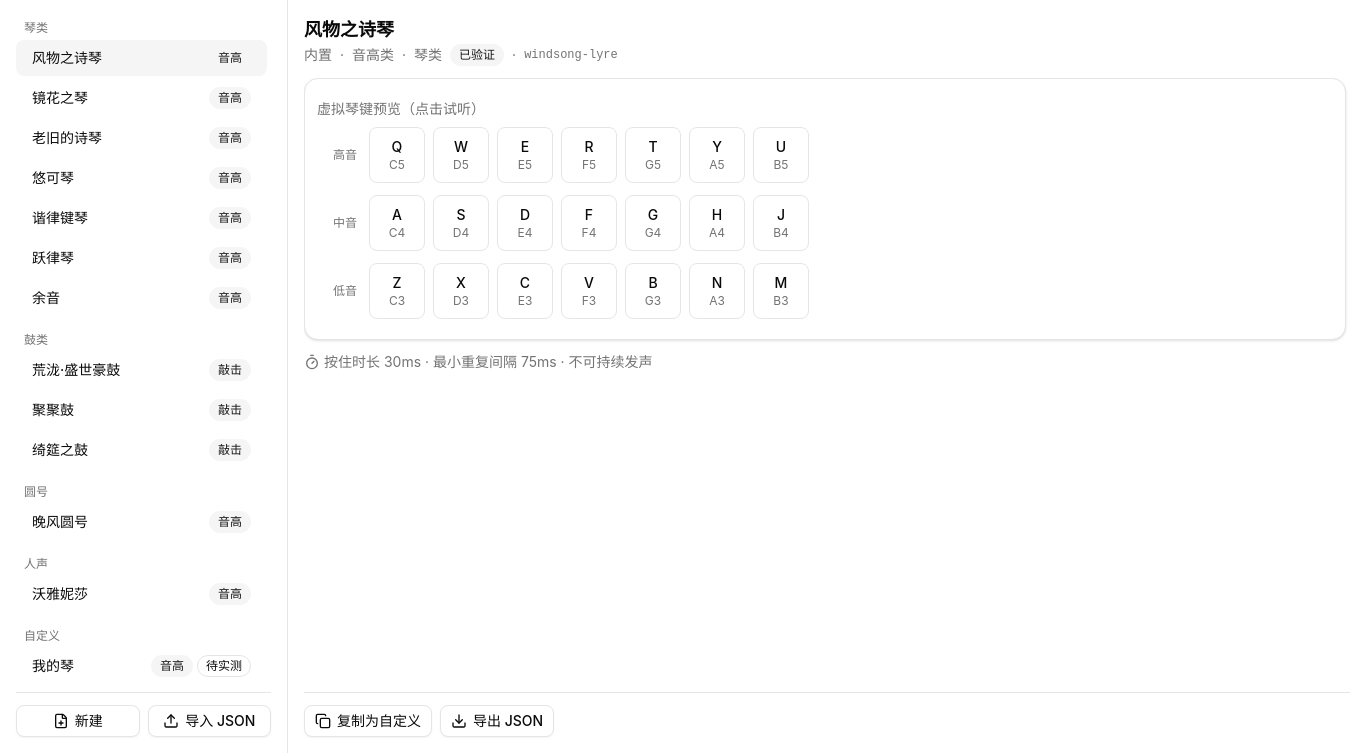
Test case: InstrumentsPage 列表与详情 › 有未保存修改时切换乐器先确认
The image size is (1366, 756).
Step 1. Click the text "我的琴" → click(53, 666), box [32, 656, 74, 676]
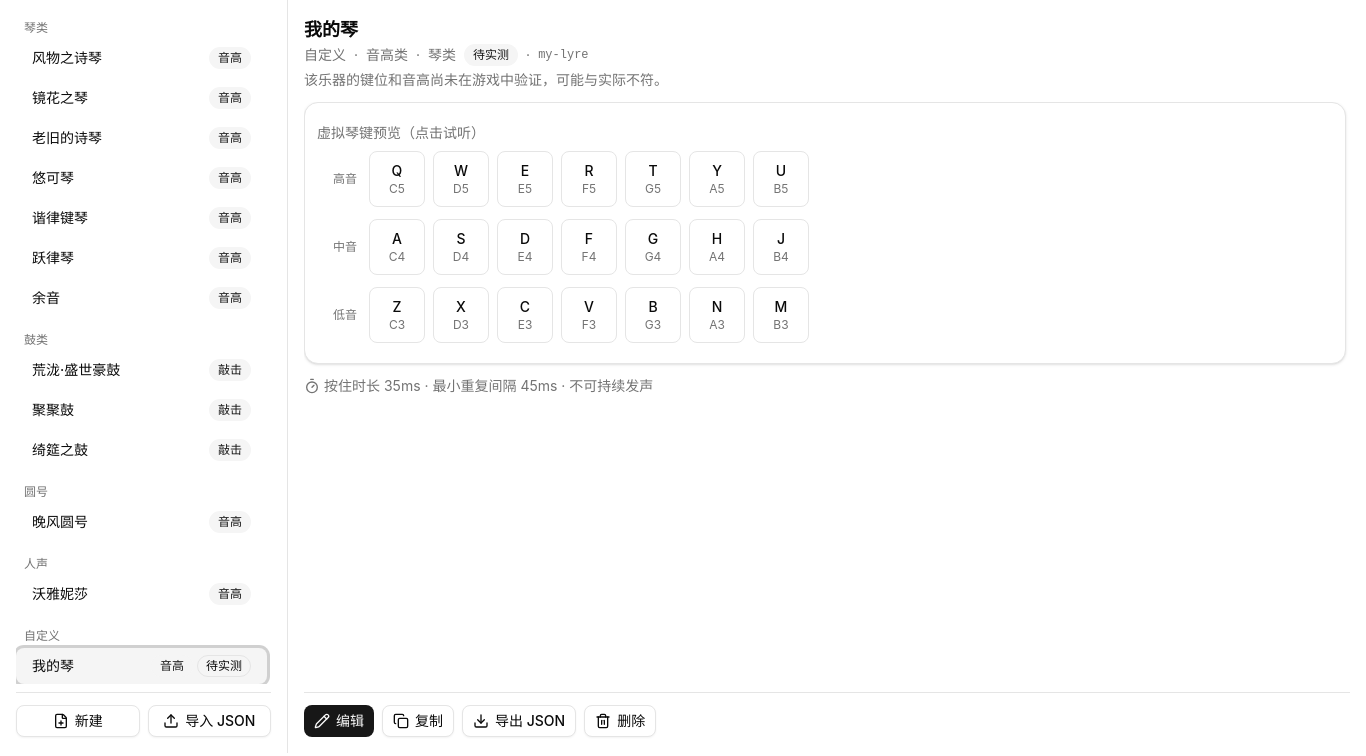
Step 2. Click the button "编辑" → click(339, 721), box [304, 705, 374, 737]
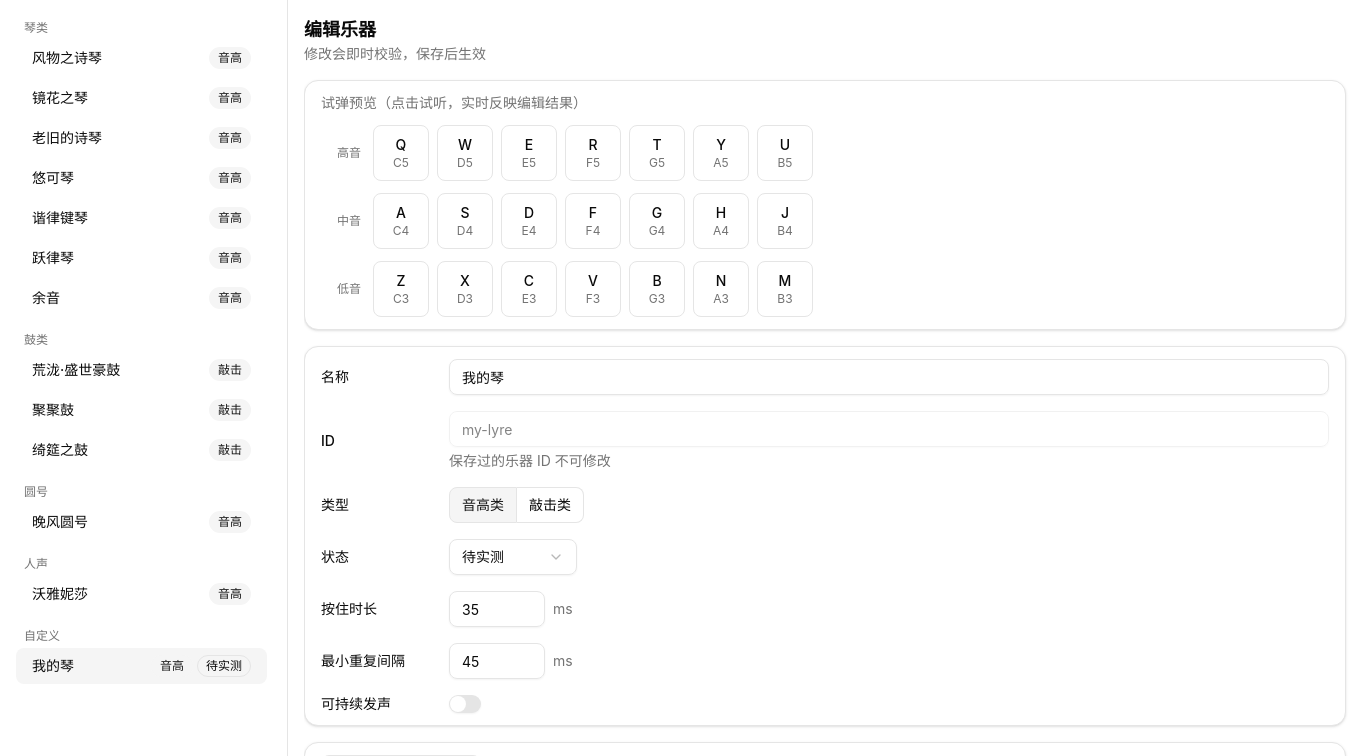
Step 3. Type "二" into the field labelled "名称" → (889, 377), box [449, 359, 1329, 395]
Step 4. Click the text "风物之诗琴" → click(67, 58), box [32, 48, 102, 68]
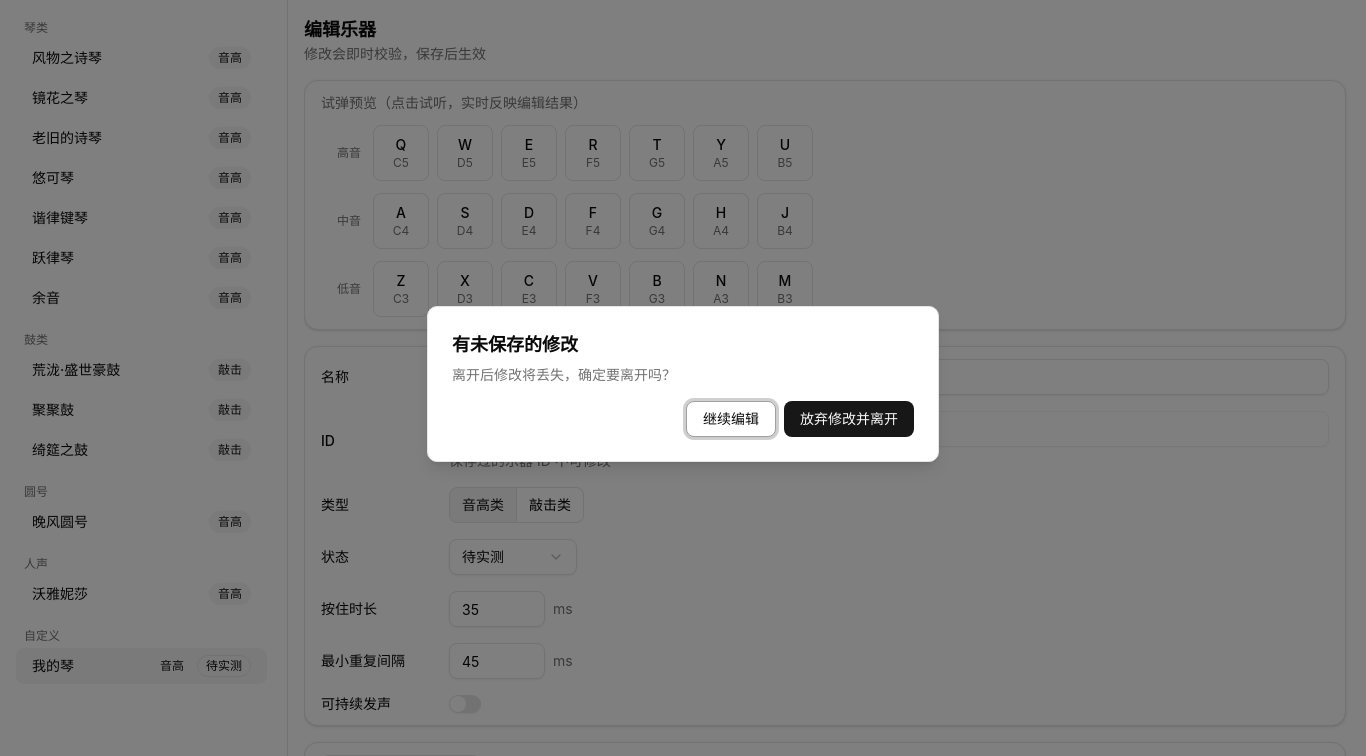
Result: the dialog "有未保存的修改" is shown at [427, 306, 939, 462]
Step 5. Click the button "继续编辑" → click(731, 419), box [686, 401, 776, 437]
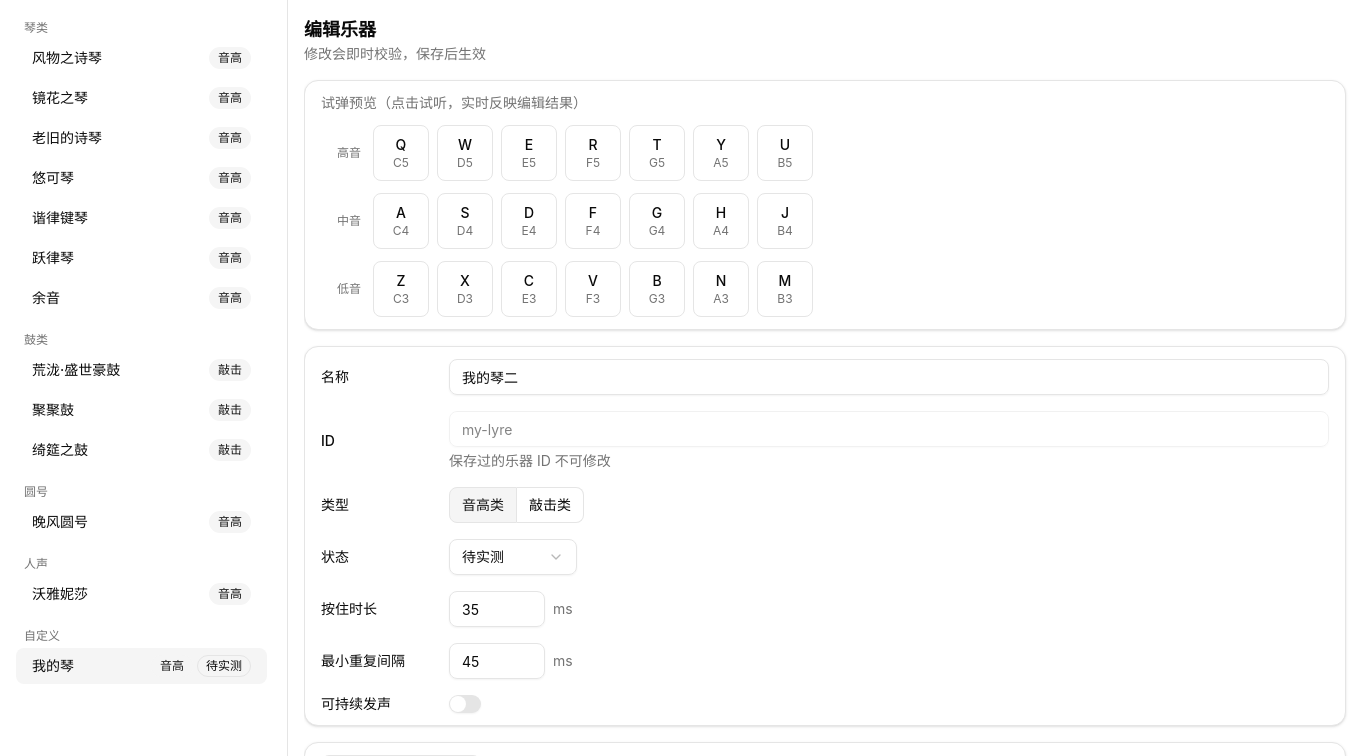
Result: the field labelled "名称" holds "我的琴二" at [449, 359, 1329, 395]
Step 6. Click the text "风物之诗琴" → click(67, 58), box [32, 48, 102, 68]
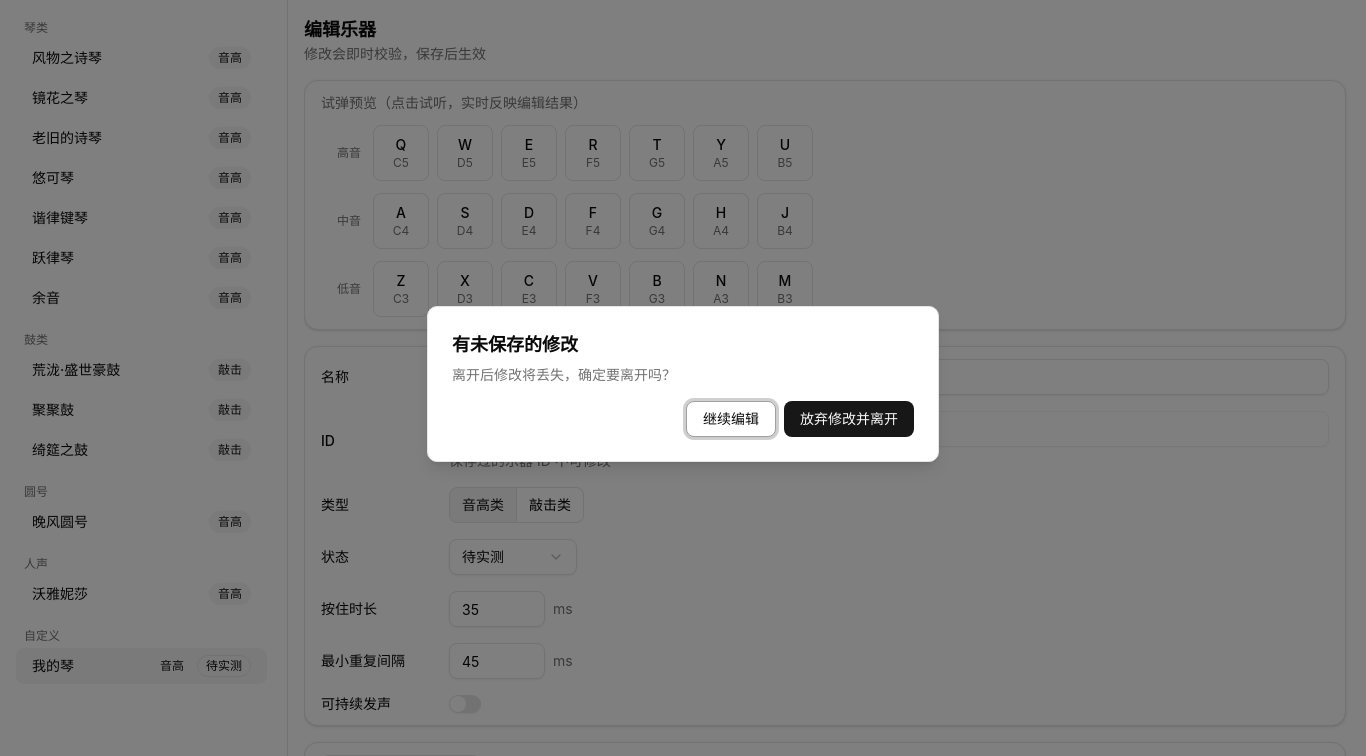
Step 7. Click the button "放弃修改并离开" → click(849, 419), box [784, 401, 914, 437]
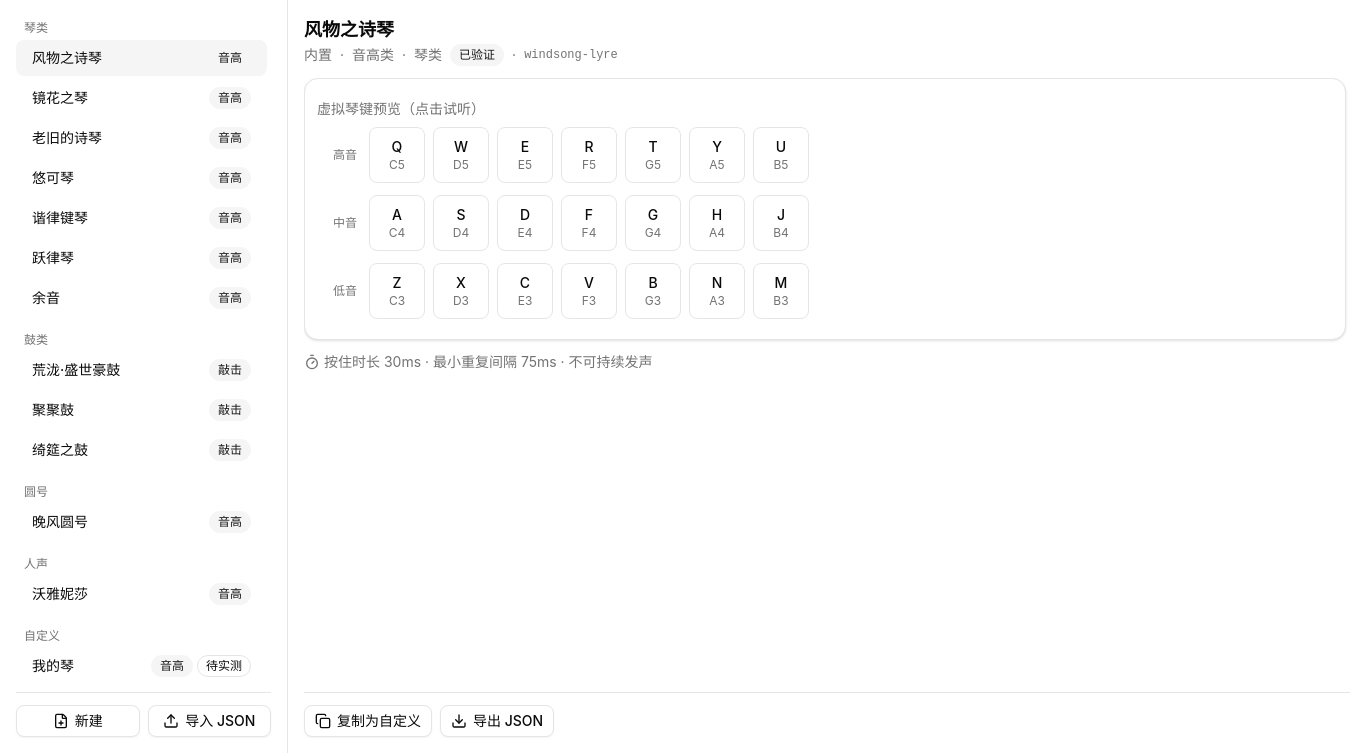
Result: the text "虚拟琴键预览（点击试听）" is shown at [317, 100, 485, 117]
Result: the label labelled "名称" is gone
